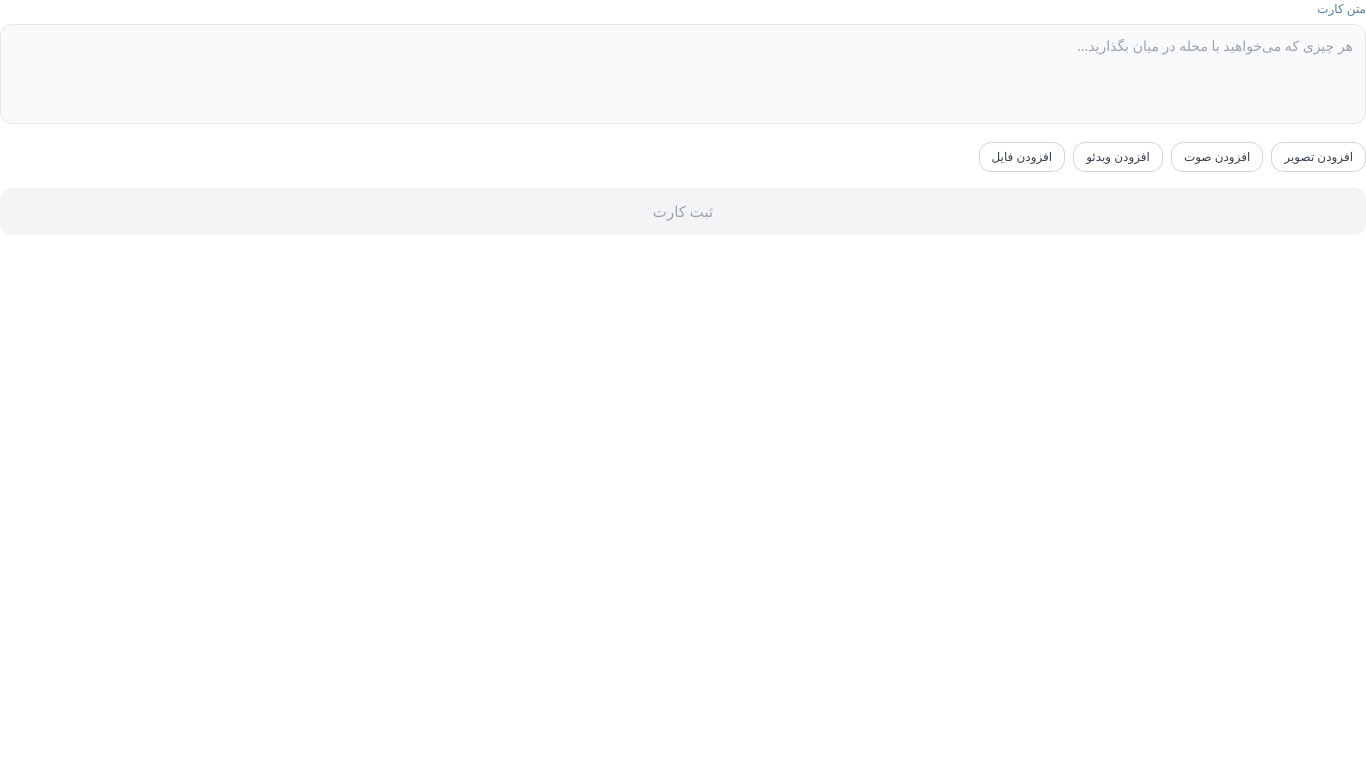
Test case: the suggestion is an offer, not a step › shows the accepted kind in the preview card
This screenshot has width=1366, height=768.
Type "یک نردبان دارم که قرض می‌دهم" into the text box labelled "متن کارت" at (683, 74), box left=0, top=24, right=1365, bottom=124
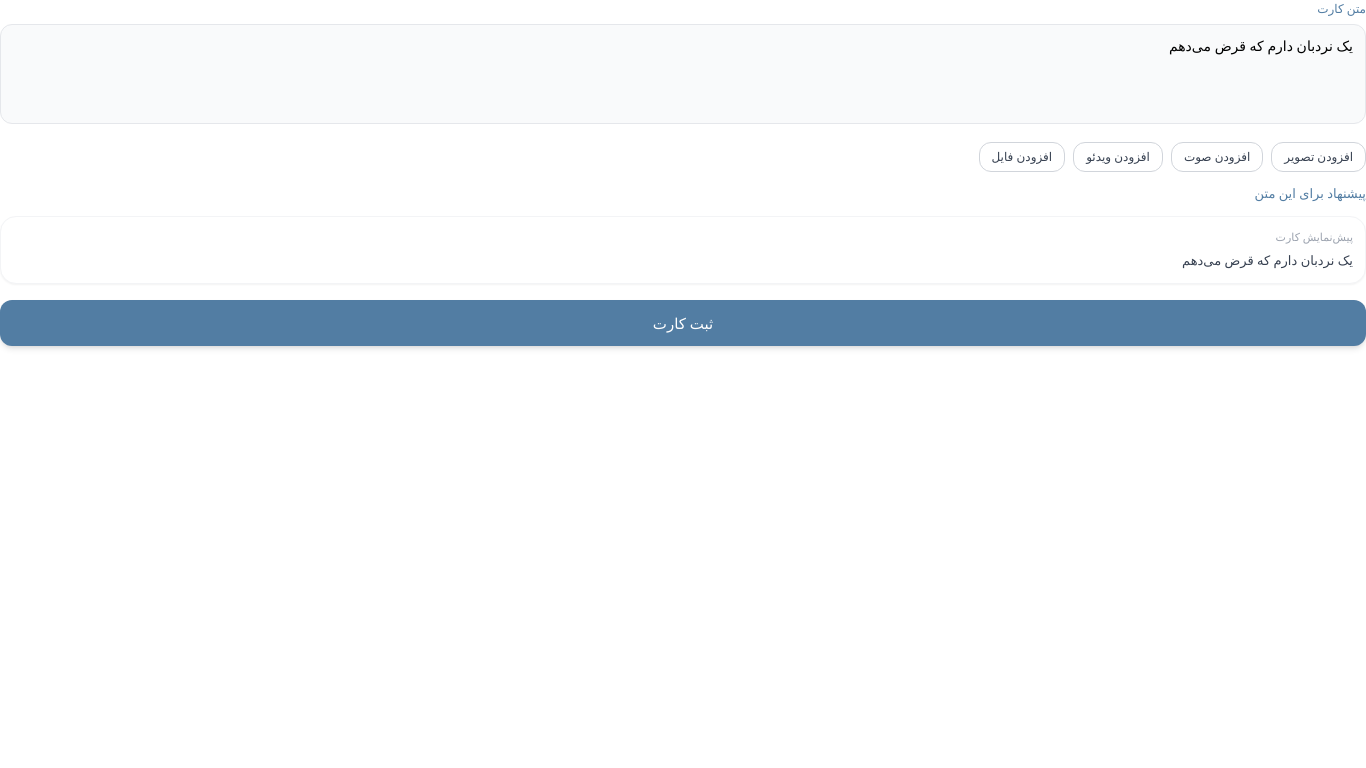
Click the button "پیشنهاد برای این متن" at (1310, 194), box left=1255, top=184, right=1365, bottom=204
(page scrolled)
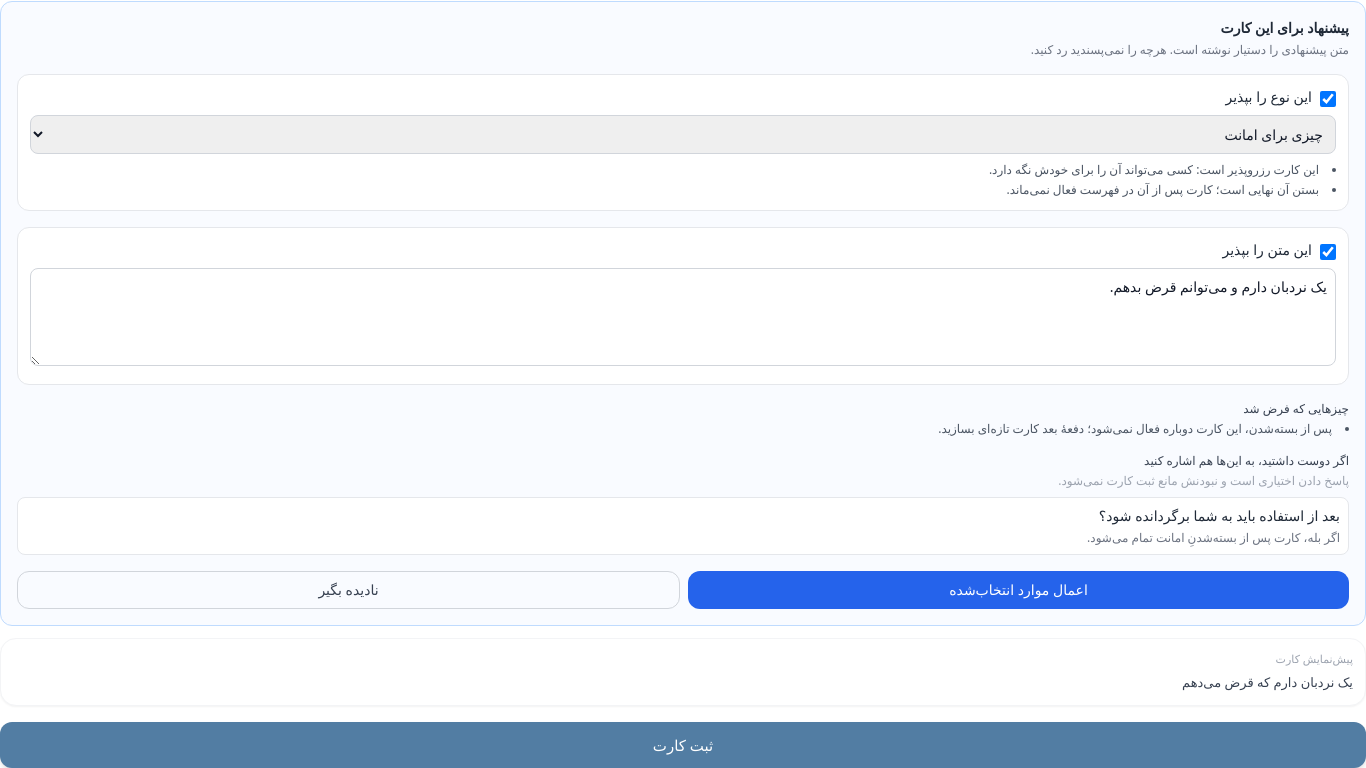
Expected: the heading "پیشنهاد برای این کارت" is shown, left=1220, top=18, right=1349, bottom=37
Click the button "اعمال موارد انتخاب‌شده" at (1018, 590), box left=688, top=571, right=1349, bottom=609
(page scrolled)
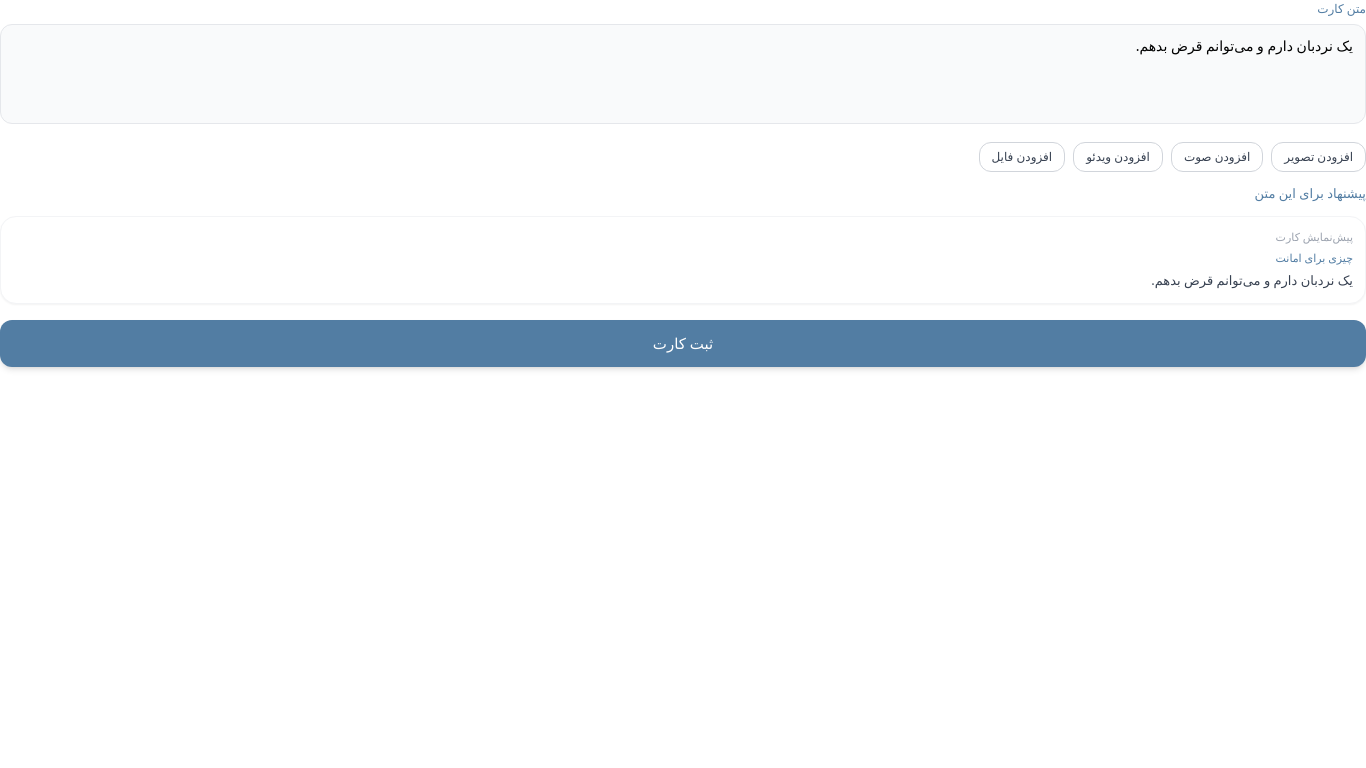
Expected: the text "چیزی برای امانت" is shown, left=1276, top=250, right=1353, bottom=264
